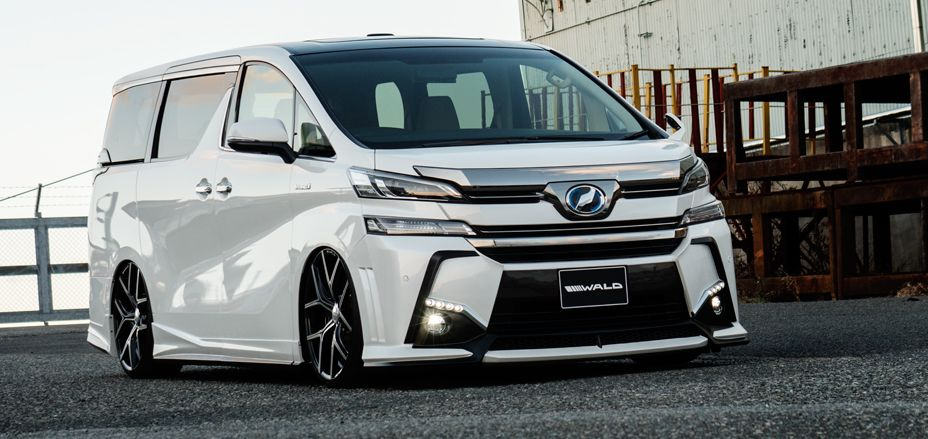van: (83, 31, 753, 389)
